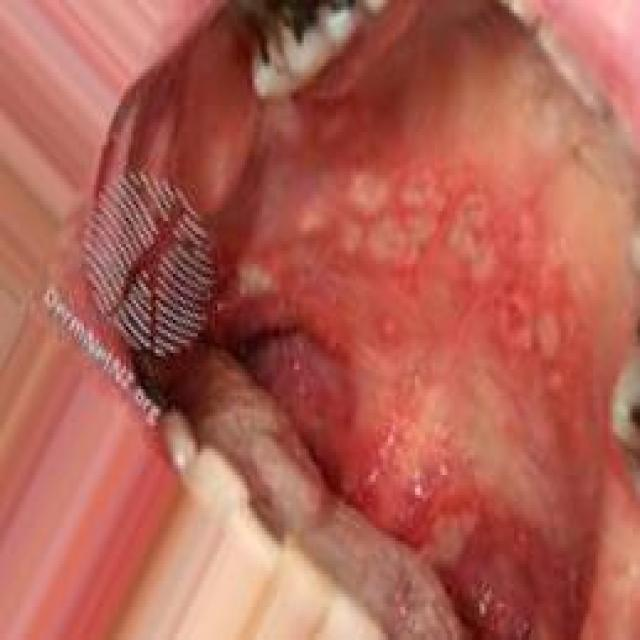caries: (229, 0, 352, 89)
